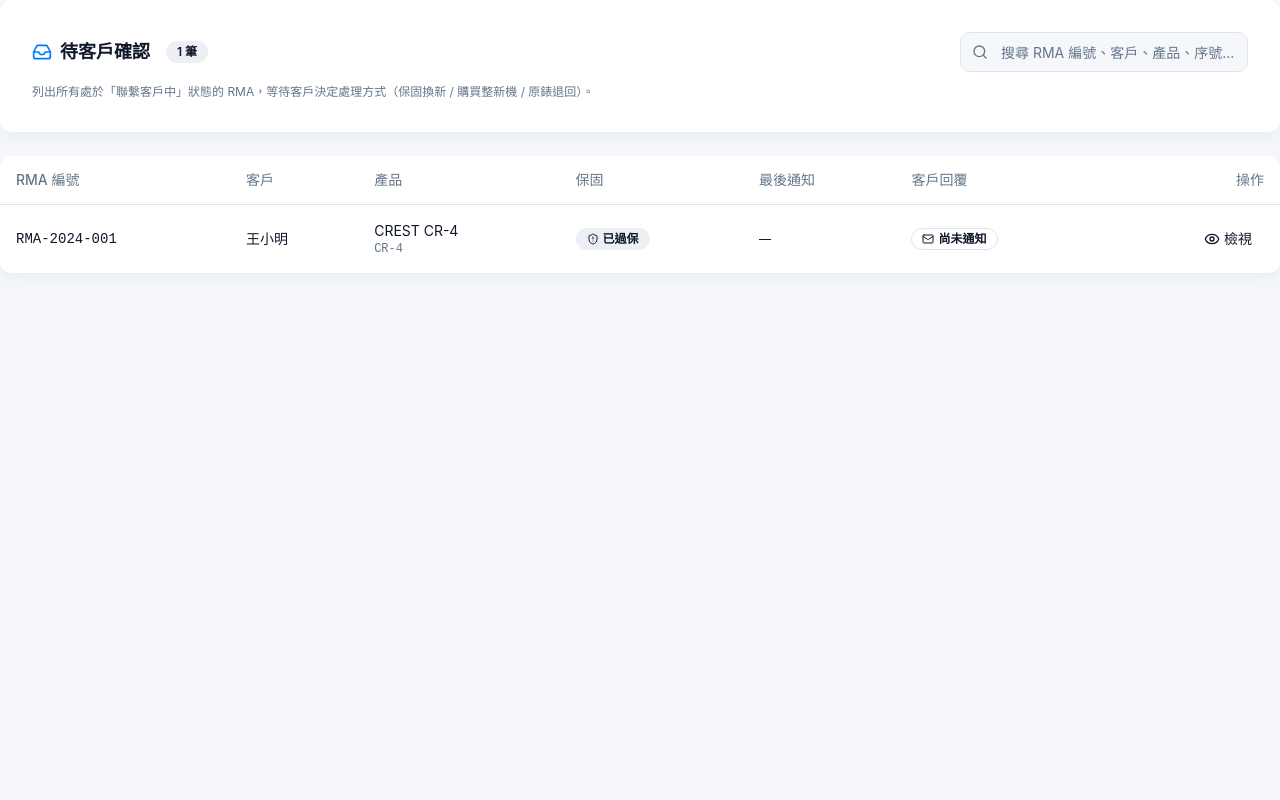
Test: AwaitingConfirmationTab - 對話框 › 點擊「檢視」後開啟對話框並顯示 RMA 資訊
The width and height of the screenshot is (1280, 800).
Click the button "檢視" at coordinates (1228, 238), box [1192,220,1264,256]
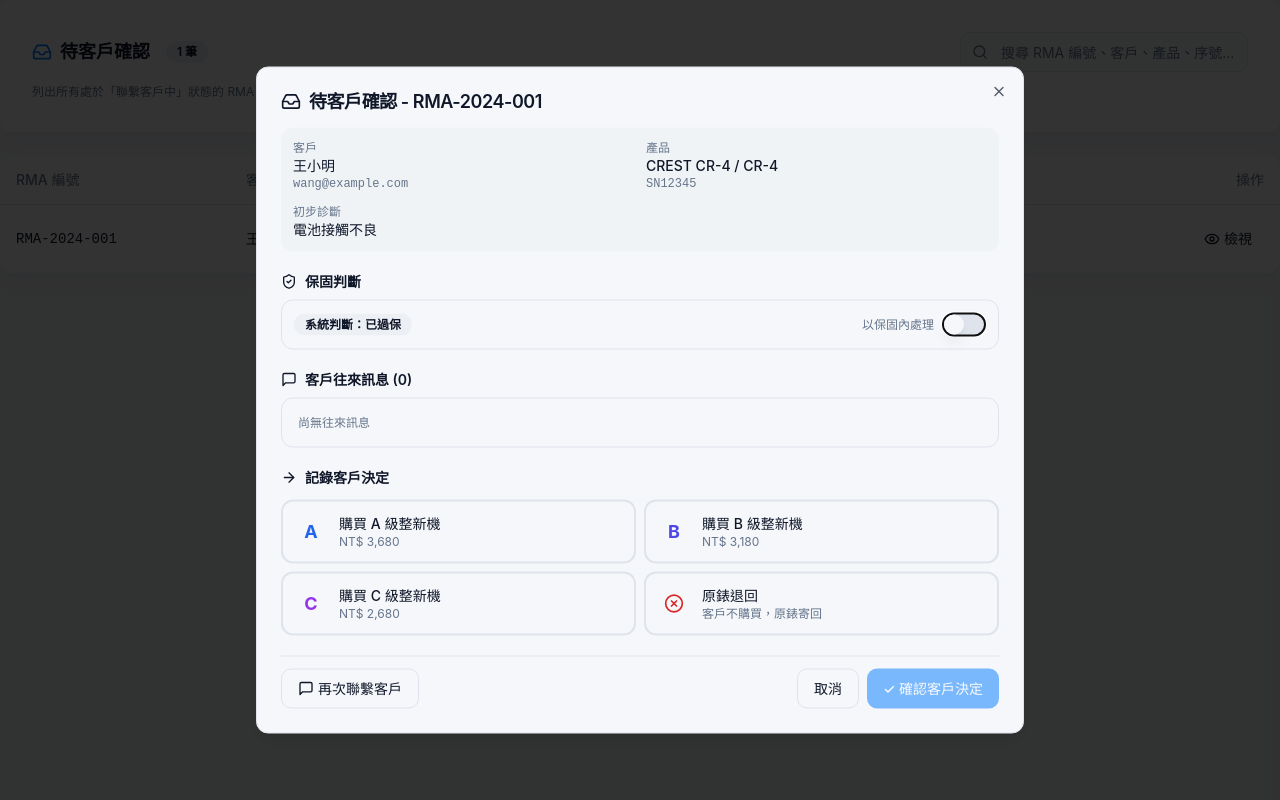
Expected: the text "SN12345" is shown, [646,176,696,190]
Expected: the heading "待客戶確認 - RMA-2024-001" is shown, [281,90,542,112]
